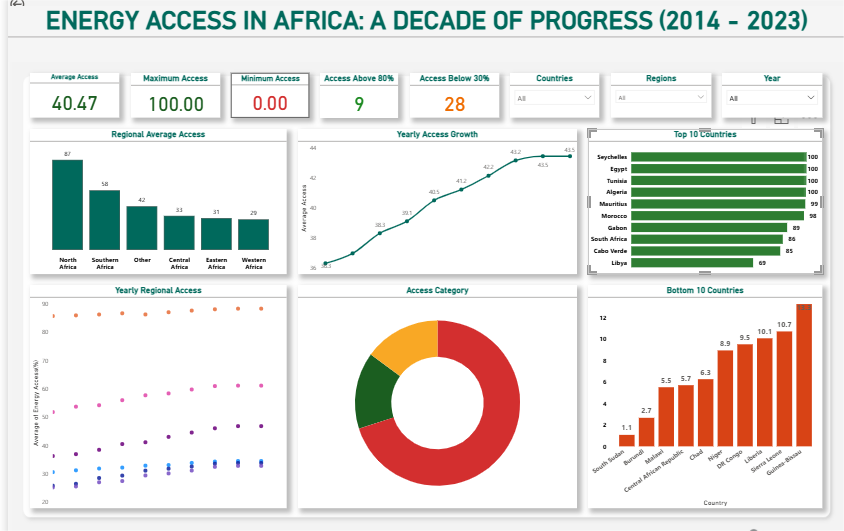

The dashboard page shown, as its layout file describes it:
{"tool":"powerbi","page":{"name":"Page 3","canvas":[1800,1200],"ordinal":2},"visuals":[{"type":"card","title":"Average Access","fields":{"Values":["African Energy Access.Average Access"]},"box":[48,168,192,96],"z":0},{"type":"card","title":"Maximum Access","fields":{"Values":["African Energy Access.Max Access"]},"box":[264,168,192,96],"z":1000},{"type":"card","title":"Minimum Access","fields":{"Values":["African Energy Access.MIN Access"]},"box":[480,168,168,96],"z":2000},{"type":"card","title":"Access Above 80%","fields":{"Values":["African Energy Access.Countries Above 80%"]},"box":[672,168,168,96],"z":3000},{"type":"card","title":"Access Below 30%","fields":{"Values":["African Energy Access.Countries Below 30%"]},"box":[864,168,192,96],"z":4000},{"type":"lineChart","title":"Yearly Access Growth","fields":{"Category":["African Energy Access.Year Hierarchy.Year"],"Y":["African Energy Access.Average Access"]},"box":[624,288,600,312],"z":5000},{"type":"actionButton","box":[0,0,100,40],"z":6000},{"type":"clusteredColumnChart","title":"Regional Average Access","fields":{"Category":["African Energy Access.Region"],"Y":["African Energy Access.Average Access"]},"box":[48,288,552,312],"z":7000},{"type":"donutChart","title":"Access Category","fields":{"Category":["African Energy Access.Access Category"],"Y":["Count(African Energy Access.Country)"]},"box":[624,624,600,480],"z":8000},{"type":"clusteredColumnChart","title":"Bottom 10 Countries","fields":{"Category":["African Energy Access.Country"],"Y":["African Energy Access.Average Access"]},"box":[1248,624,504,480],"z":9000},{"type":"barChart","title":"Top 10 Countries","fields":{"Category":["African Energy Access.Country"],"Y":["African Energy Access.Average Access"]},"box":[1248,288,504,312],"z":10000},{"type":"slicer","title":"Countries","fields":{"Values":["African Energy Access.Country"]},"box":[1080,168,192,96],"z":11000},{"type":"slicer","title":"Regions","fields":{"Values":["African Energy Access.Region"]},"box":[1296,168,216,96],"z":12000},{"type":"slicer","title":"Year","fields":{"Values":["African Energy Access.Year Hierarchy.Year"]},"box":[1536,168,216,96],"z":13000},{"type":"scatterChart","title":"Yearly Regional Access","fields":{"Series":["African Energy Access.Region"],"X":["African Energy Access.Year Hierarchy.Year"],"Y":["Avg(African Energy Access.Energy Access(%))"]},"box":[48,624,552,480],"z":14000},{"type":"textbox","title":"ENERGY ACCESS IN AFRICA: A DECADE OF PROGRESS (2014 - 2023)","box":[0,24,1800,120],"z":15000}]}

Visuals, with their boxes on the page's 1800x1200 design canvas (x1, y1, x2, y2). These are canvas units, not pixel positions in the 844x531 screenshot, which may show the page scaled, cropped or inside an application window:
"Average Access" card: bbox=(48, 168, 240, 264)
"Maximum Access" card: bbox=(264, 168, 456, 264)
"Minimum Access" card: bbox=(480, 168, 648, 264)
"Access Above 80%" card: bbox=(672, 168, 840, 264)
"Access Below 30%" card: bbox=(864, 168, 1056, 264)
"Yearly Access Growth" lineChart: bbox=(624, 288, 1224, 600)
actionButton: bbox=(0, 0, 100, 40)
"Regional Average Access" clusteredColumnChart: bbox=(48, 288, 600, 600)
"Access Category" donutChart: bbox=(624, 624, 1224, 1104)
"Bottom 10 Countries" clusteredColumnChart: bbox=(1248, 624, 1752, 1104)
"Top 10 Countries" barChart: bbox=(1248, 288, 1752, 600)
"Countries" slicer: bbox=(1080, 168, 1272, 264)
"Regions" slicer: bbox=(1296, 168, 1512, 264)
"Year" slicer: bbox=(1536, 168, 1752, 264)
"Yearly Regional Access" scatterChart: bbox=(48, 624, 600, 1104)
"ENERGY ACCESS IN AFRICA: A DECADE OF PROGRESS (2014 - 2023)" textbox: bbox=(0, 24, 1800, 144)
